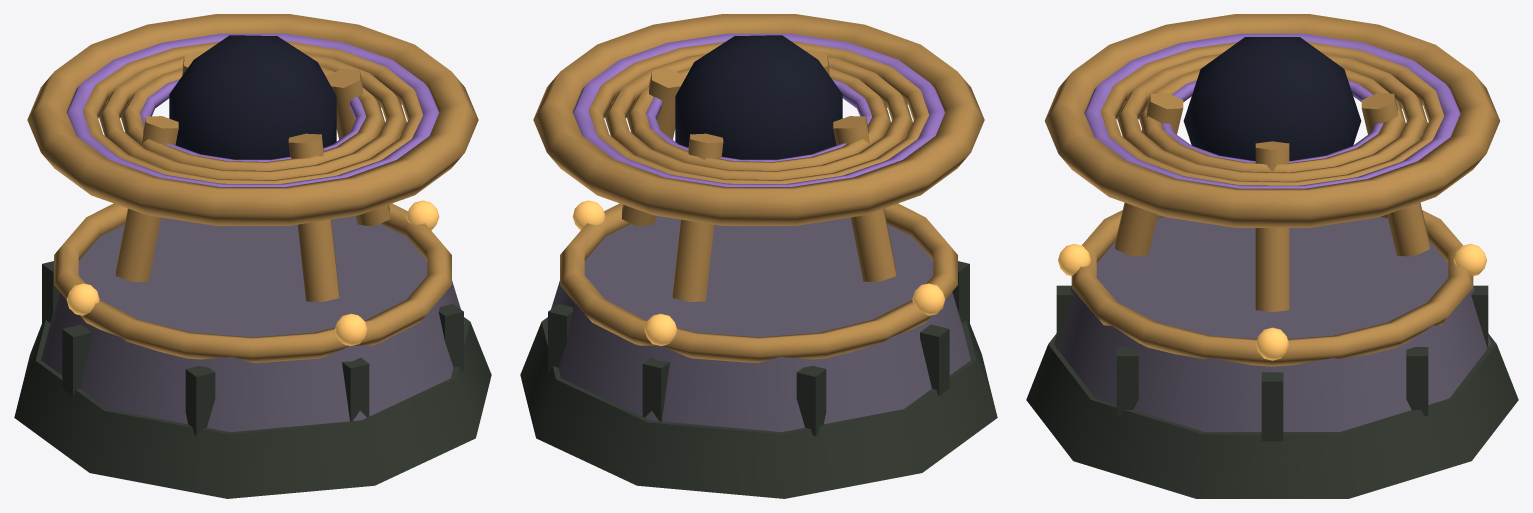
Rendered from tower_gravity_gravityCore_ultimate.glb.
3 renders of one model, left to right at view 1: azimuth 30°, elevation 25°; view 2: azimuth 150°, elevation 25°; view 3: azimuth 270°, elevation 25°, orthographic.
Visible parts, largest first — view 1: stone_1, foot_0, event_horizon_24, black_hole_15, rim_2, orbit_22, event_light_25, orbit_23, orbit_21, claw_18, claw_19, claw_17 (+9 smaller); view 2: stone_1, foot_0, event_horizon_24, black_hole_15, rim_2, orbit_22, event_light_25, orbit_23, orbit_21, claw_16, claw_19, claw_17 (+9 smaller); view 3: stone_1, foot_0, event_horizon_24, black_hole_15, rim_2, orbit_22, event_light_25, orbit_23, orbit_21, claw_17, claw_18, claw_16 (+9 smaller).
Boxes of the visible parts, box(x1,y1,x2,y2) form: stone_1: box(41, 216, 464, 432); foot_0: box(14, 317, 491, 498); event_horizon_24: box(27, 14, 478, 225); black_hole_15: box(169, 35, 336, 159); rim_2: box(54, 203, 451, 362); orbit_22: box(99, 54, 406, 179); event_light_25: box(66, 33, 439, 186); orbit_23: box(83, 41, 422, 183); orbit_21: box(120, 66, 384, 170); claw_18: box(288, 133, 339, 301); claw_19: box(116, 116, 178, 281); claw_17: box(327, 68, 390, 226); stone_1: box(547, 216, 970, 432); foot_0: box(520, 317, 997, 498); event_horizon_24: box(533, 14, 984, 225); black_hole_15: box(675, 35, 842, 159); rim_2: box(560, 203, 957, 362); orbit_22: box(605, 53, 912, 179); event_light_25: box(572, 33, 945, 186); orbit_23: box(589, 41, 928, 183); orbit_21: box(626, 67, 890, 170); claw_16: box(672, 133, 723, 301); claw_19: box(833, 116, 895, 281); claw_17: box(621, 68, 684, 226); stone_1: box(1054, 217, 1490, 431); foot_0: box(1026, 333, 1518, 498); event_horizon_24: box(1045, 14, 1499, 227); black_hole_15: box(1183, 37, 1361, 160); rim_2: box(1071, 210, 1473, 366); orbit_22: box(1117, 54, 1427, 181); event_light_25: box(1084, 33, 1460, 188); orbit_23: box(1101, 41, 1443, 185); orbit_21: box(1139, 68, 1405, 172); claw_17: box(1255, 141, 1289, 312); claw_18: box(1115, 93, 1183, 256); claw_16: box(1361, 93, 1429, 256).
Size of the model in its own units: 0.5326 by 0.451 by 0.56.
